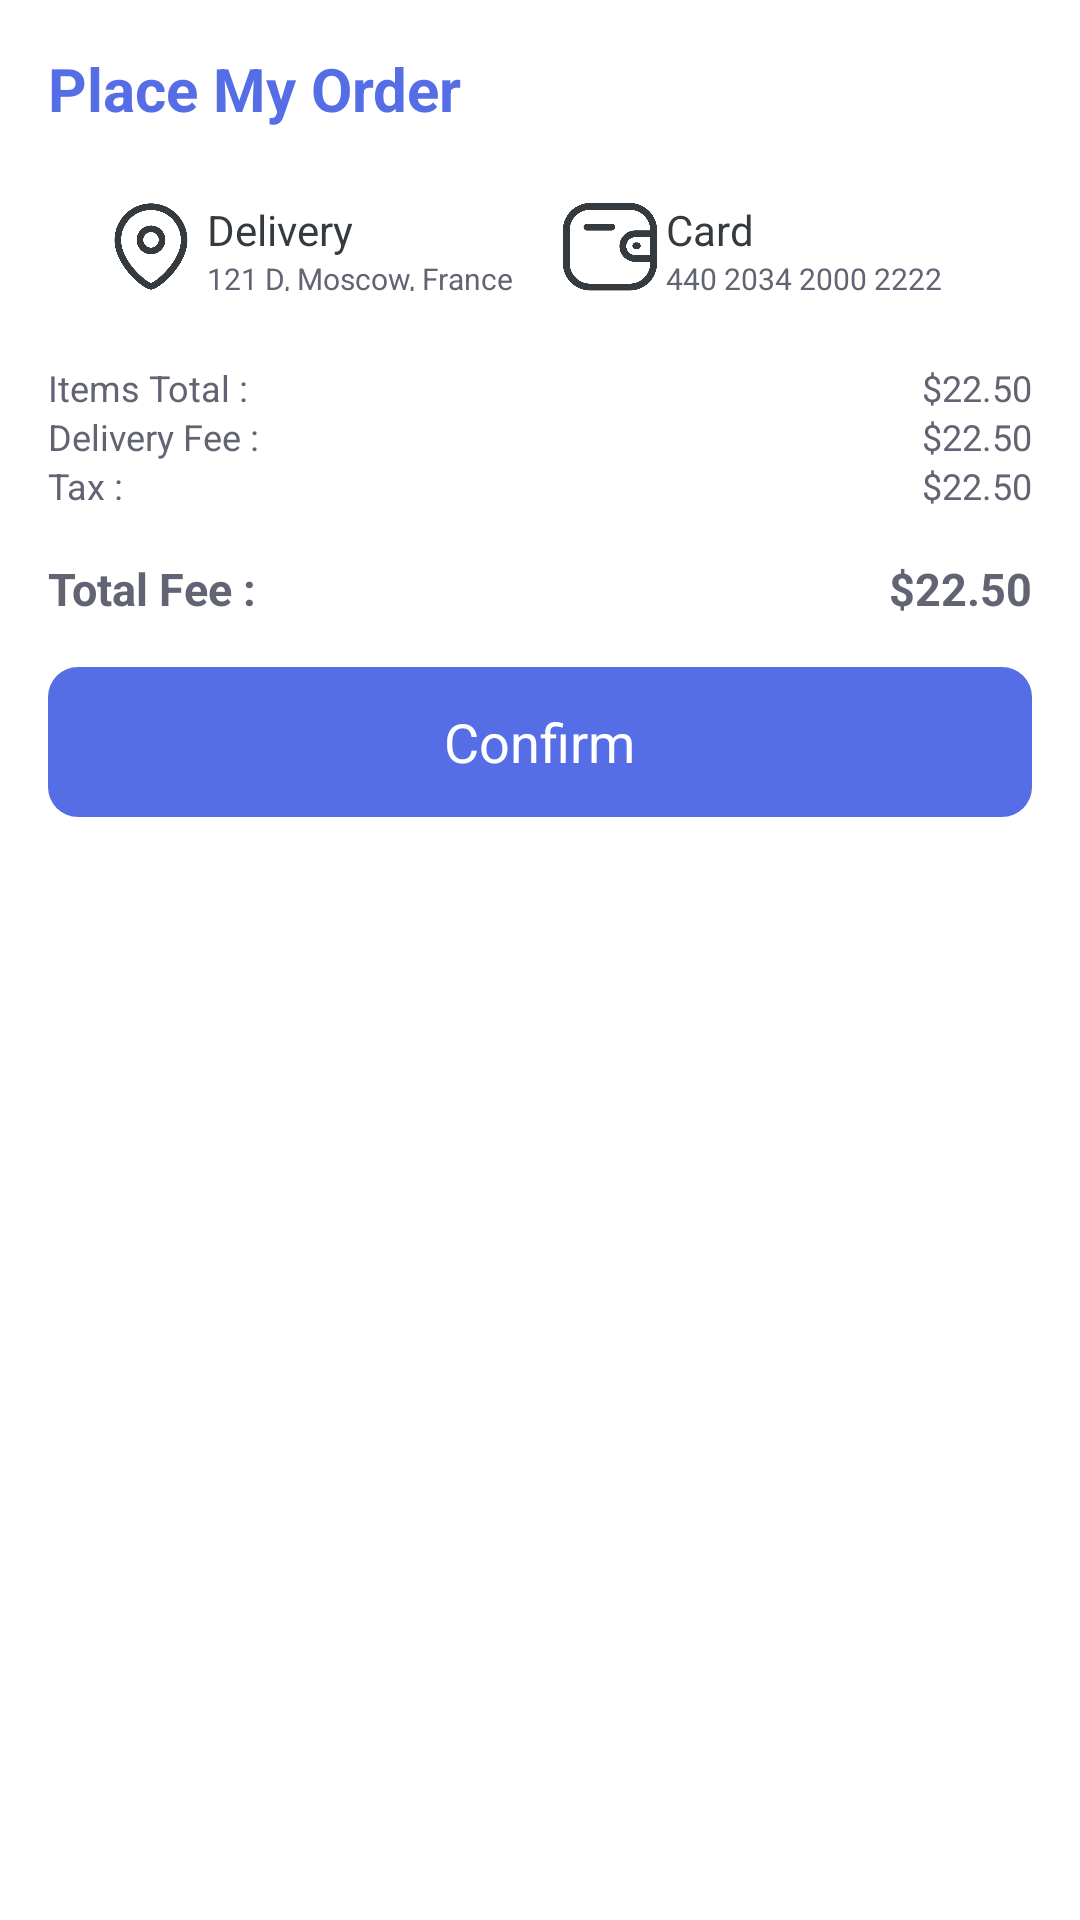

Icons on this 1080x1920 Android screen, each with its box as (x1, y1, x2, y2):
location: (114, 203, 188, 290)
